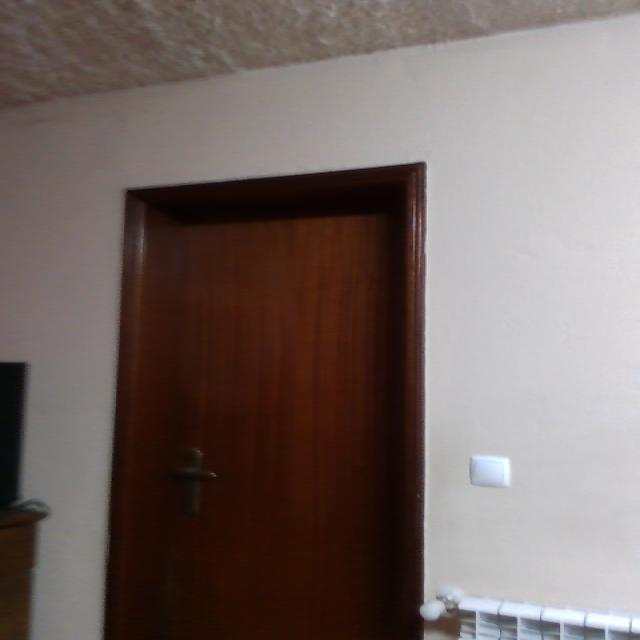door: (99, 159, 429, 640)
